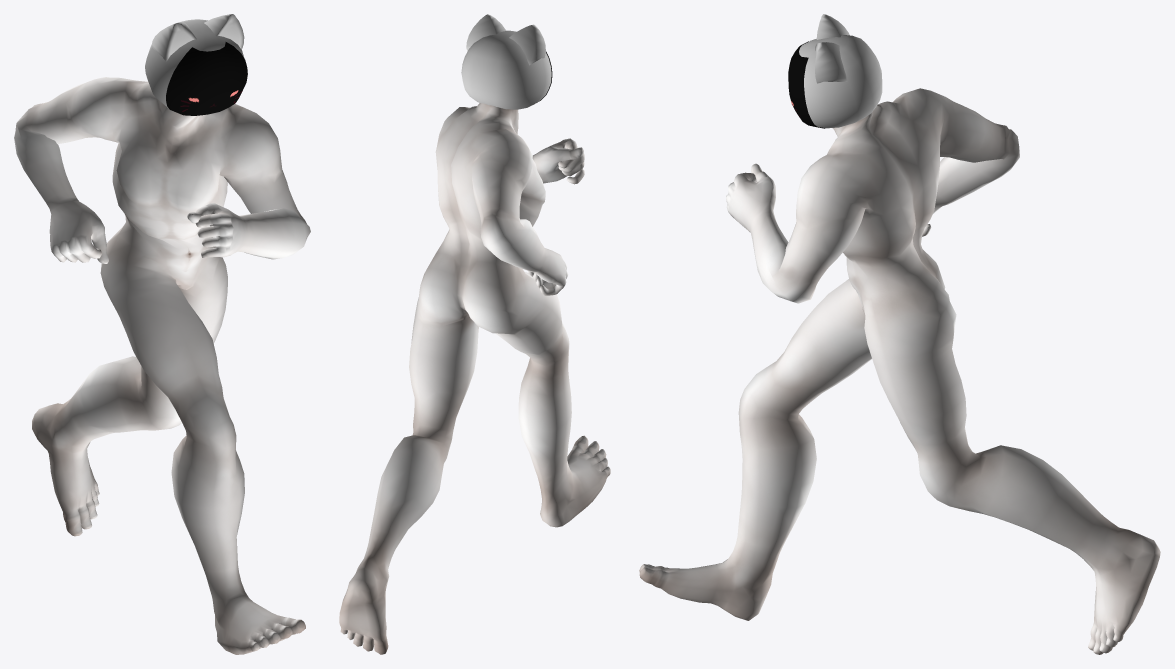
The picture shows the model from 3 angles, left to right: view 1: azimuth 30°, elevation 25°; view 2: azimuth 150°, elevation 25°; view 3: azimuth 270°, elevation 25°; orthographic projection. The views are drawn at different scales.
Parts seen in each view (by area): view 1: Muscle_Body, ______?001, Cat_Head; view 2: Muscle_Body, Cat_Head; view 3: Muscle_Body, Cat_Head, ______?001.
Boxes of the visible parts, box(x1,y1,x2,y2) form: Muscle_Body: box(14, 77, 310, 654); ______?001: box(166, 42, 247, 115); Cat_Head: box(145, 14, 244, 108); Muscle_Body: box(339, 103, 610, 654); Cat_Head: box(461, 14, 551, 109); Muscle_Body: box(639, 88, 1160, 654); Cat_Head: box(799, 14, 882, 128); ______?001: box(788, 41, 824, 128).
Size of the model in its own units: 9.08 by 27.82 by 21.21.
